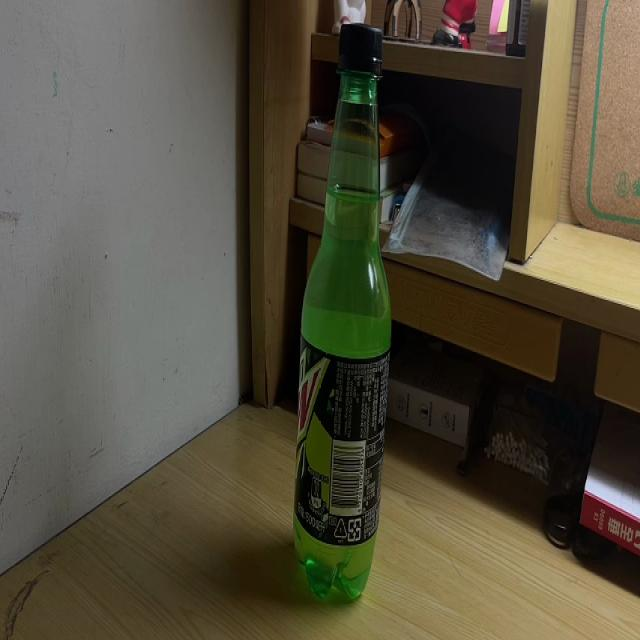Mountain-Dew: (293, 22, 392, 608)
